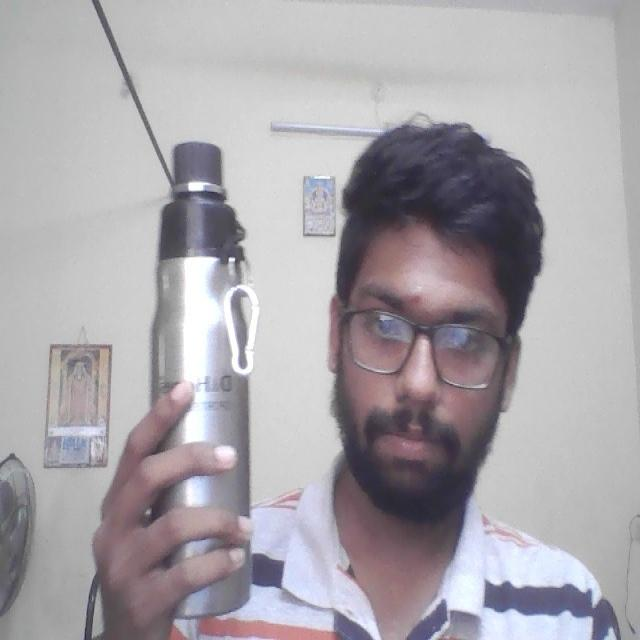Drinking: (145, 136, 267, 626)
